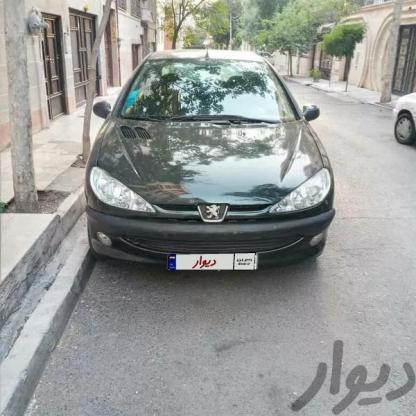Car: (84, 46, 330, 286), (385, 89, 416, 156)
